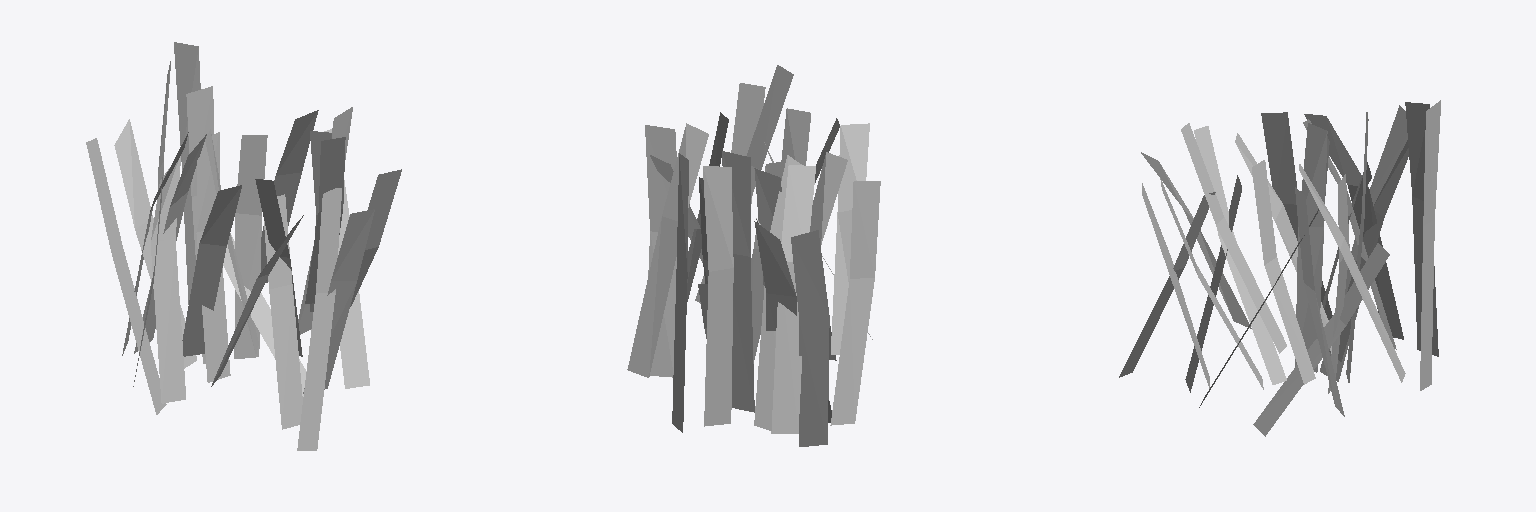
Rendered from grass.obj.
The picture shows the model from 3 angles: view 1: azimuth 30°, elevation 25°; view 2: azimuth 150°, elevation 25°; view 3: azimuth 270°, elevation 25°; orthographic projection.
Visible parts, largest first — view 1: diffusegrass_-_Copy.020; view 2: diffusegrass_-_Copy.020; view 3: diffusegrass_-_Copy.020.
Boxes of the visible parts, <box> form: diffusegrass_-_Copy.020: <box>86,42,401,450</box>; diffusegrass_-_Copy.020: <box>627,65,880,446</box>; diffusegrass_-_Copy.020: <box>1119,100,1440,436</box>.
Bounding box in the file's own units: 0.5768 × 0.7773 × 0.7311.